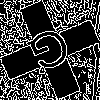G: (25, 25, 79, 82)
